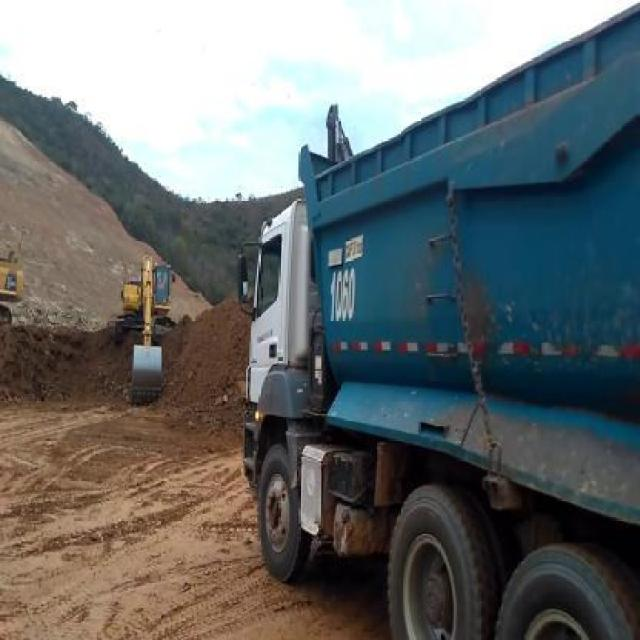dump_truck: (236, 2, 639, 640)
excavator: (107, 252, 175, 406)
